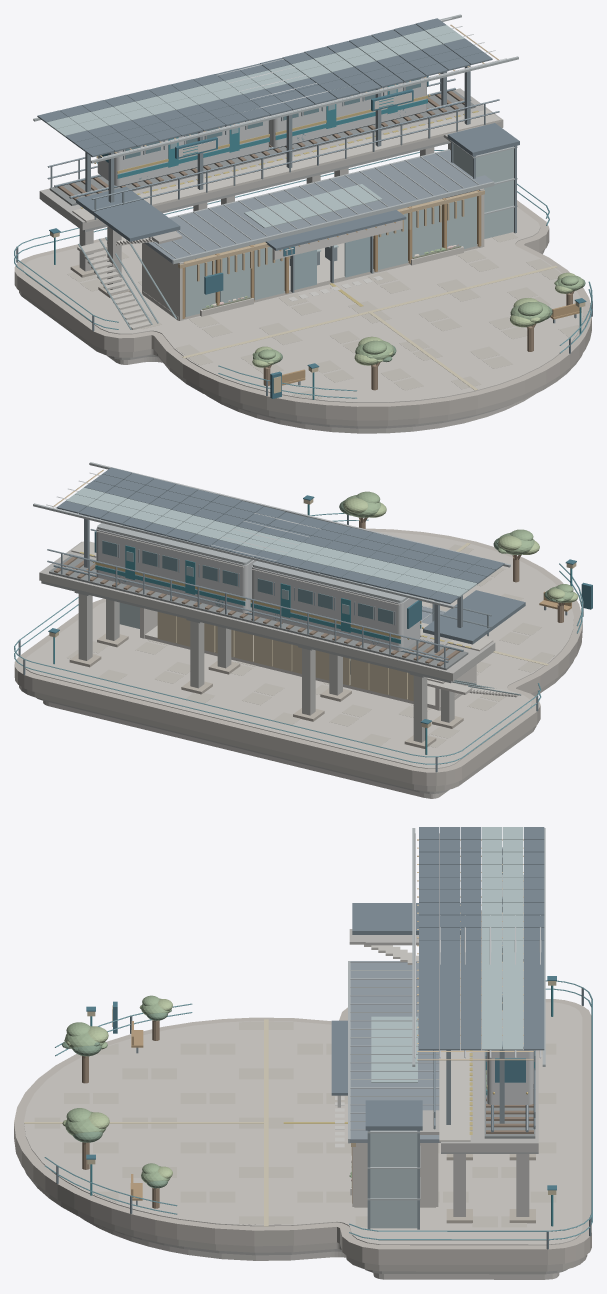
File: F_elevated_station_v8_design.glb
3 views of the same model, one above another, from view 1: azimuth 30°, elevation 25°; view 2: azimuth 150°, elevation 25°; view 3: azimuth 270°, elevation 25° (orthographic). The views are drawn at different scales.
Parts seen in each view (by area): view 1: 01 Island::paving, 07 Platform canopy::roofDark, 01 Island::sandstone, 12 Hall roof::roof, 02 Paving::pavingAccent, 07 Platform canopy::glassClear, 11 Hall::glassClear, 08 Train::trainBase, 06 Platform::plinth, 03 Viaduct::viaduct, 16 Vertical circulation::roofDark, 12 Hall roof::metalLight (+35 smaller); view 2: 01 Island::paving, 07 Platform canopy::roofDark, 01 Island::sandstone, 08 Train::trainBase, 07 Platform canopy::glassClear, 04 Elevated piers::viaduct, 11 Hall::glassAmber, 02 Paving::pavingAccent, 03 Viaduct::viaduct, 01 Island::strata, 05 Track::railGround, 09 Platform guard::metal (+22 smaller); view 3: 01 Island::paving, 07 Platform canopy::roofDark, 01 Island::sandstone, 02 Paving::pavingAccent, 07 Platform canopy::glassClear, 12 Hall roof::roof, 16 Vertical circulation::glassClear, 16 Vertical circulation::roofDark, 01 Island::strata, 03 Viaduct::viaduct, 12 Hall roof::glassClear, 06 Platform::plinth (+23 smaller).
Boxes of the visible parts, bbox=[...] form: 01 Island::paving: bbox=[23, 199, 583, 402]; 07 Platform canopy::roofDark: bbox=[37, 18, 492, 157]; 01 Island::sandstone: bbox=[14, 200, 591, 420]; 12 Hall roof::roof: bbox=[144, 150, 492, 263]; 02 Paving::pavingAccent: bbox=[67, 199, 578, 398]; 07 Platform canopy::glassClear: bbox=[46, 25, 464, 136]; 11 Hall::glassClear: bbox=[185, 196, 476, 316]; 08 Train::trainBase: bbox=[97, 76, 426, 186]; 06 Platform::plinth: bbox=[72, 109, 501, 222]; 03 Viaduct::viaduct: bbox=[39, 88, 503, 230]; 16 Vertical circulation::roofDark: bbox=[76, 123, 519, 241]; 12 Hall roof::metalLight: bbox=[153, 149, 494, 264]; 01 Island::paving: bbox=[25, 532, 573, 768]; 07 Platform canopy::roofDark: bbox=[56, 467, 504, 604]; 01 Island::sandstone: bbox=[14, 528, 582, 785]; 08 Train::trainBase: bbox=[96, 527, 420, 650]; 07 Platform canopy::glassClear: bbox=[66, 487, 477, 597]; 04 Elevated piers::viaduct: bbox=[78, 594, 454, 742]; 11 Hall::glassAmber: bbox=[157, 612, 413, 701]; 02 Paving::pavingAccent: bbox=[66, 544, 554, 747]; 03 Viaduct::viaduct: bbox=[39, 541, 495, 681]; 01 Island::strata: bbox=[19, 660, 573, 791]; 05 Track::railGround: bbox=[49, 556, 468, 670]; 09 Platform guard::metal: bbox=[47, 529, 491, 667]; 01 Island::paving: bbox=[24, 1002, 582, 1245]; 07 Platform canopy::roofDark: bbox=[419, 827, 544, 1050]; 01 Island::sandstone: bbox=[14, 999, 591, 1264]; 02 Paving::pavingAccent: bbox=[34, 1021, 556, 1227]; 07 Platform canopy::glassClear: bbox=[482, 827, 523, 1050]; 12 Hall roof::roof: bbox=[349, 961, 440, 1142]; 16 Vertical circulation::glassClear: bbox=[370, 1133, 417, 1228]; 16 Vertical circulation::roofDark: bbox=[352, 903, 460, 1130]; 01 Island::strata: bbox=[24, 1169, 587, 1271]; 03 Viaduct::viaduct: bbox=[441, 910, 538, 1152]; 12 Hall roof::glassClear: bbox=[371, 1016, 417, 1082]; 06 Platform::plinth: bbox=[439, 942, 470, 1142].
Size of the model in its own units: 20.4 by 8.5 by 19.85.
